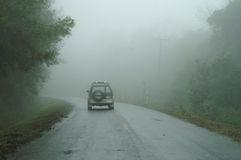car: (85, 79, 115, 110)
